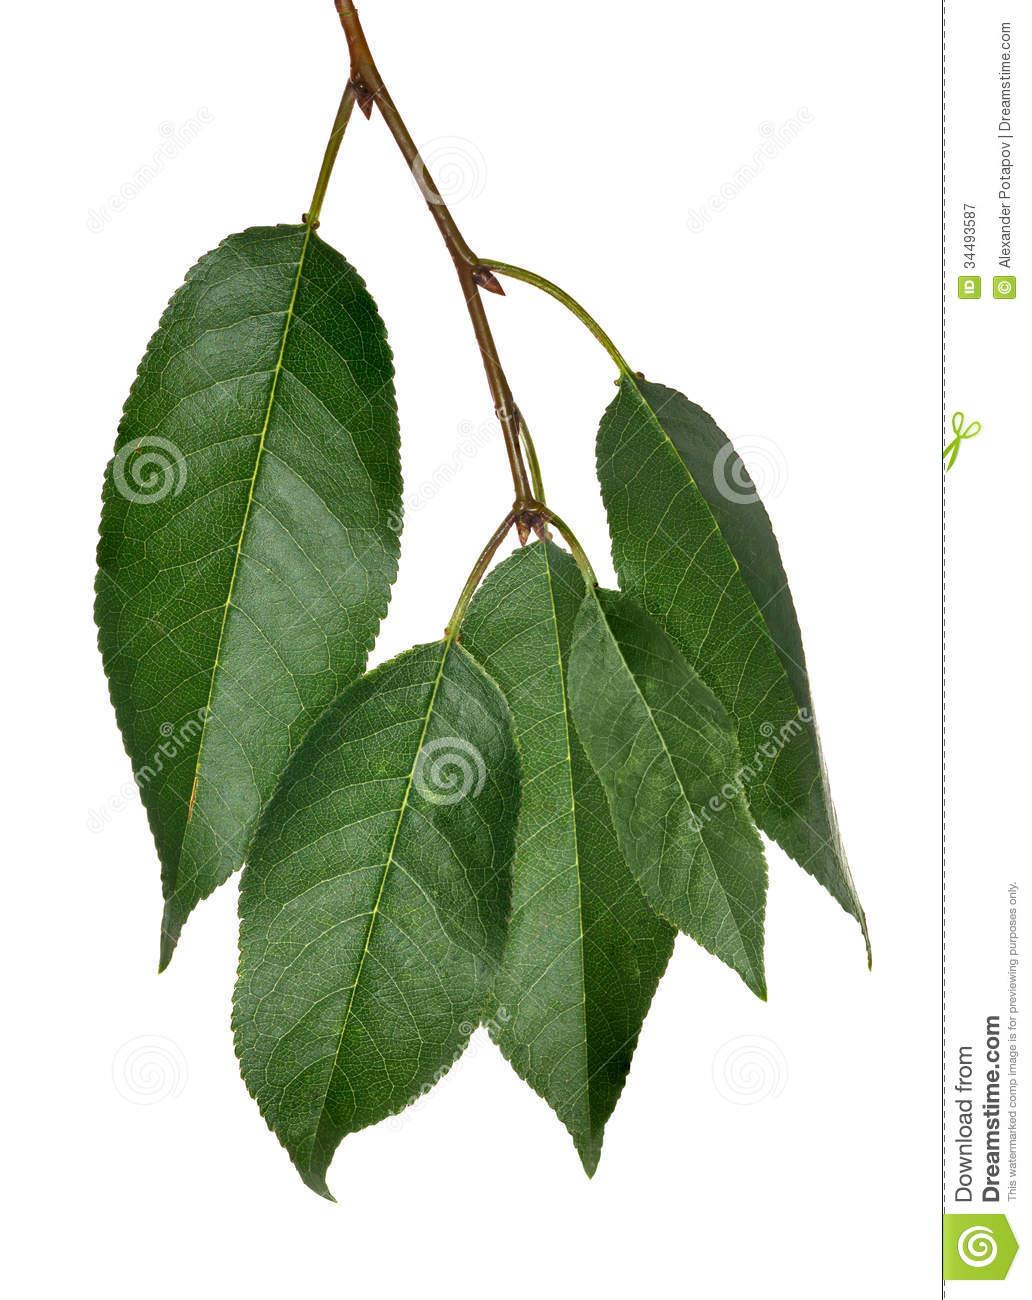Cherry leaf: (85, 208, 420, 975), (425, 528, 719, 1248), (573, 355, 892, 1013), (225, 622, 541, 1220)
